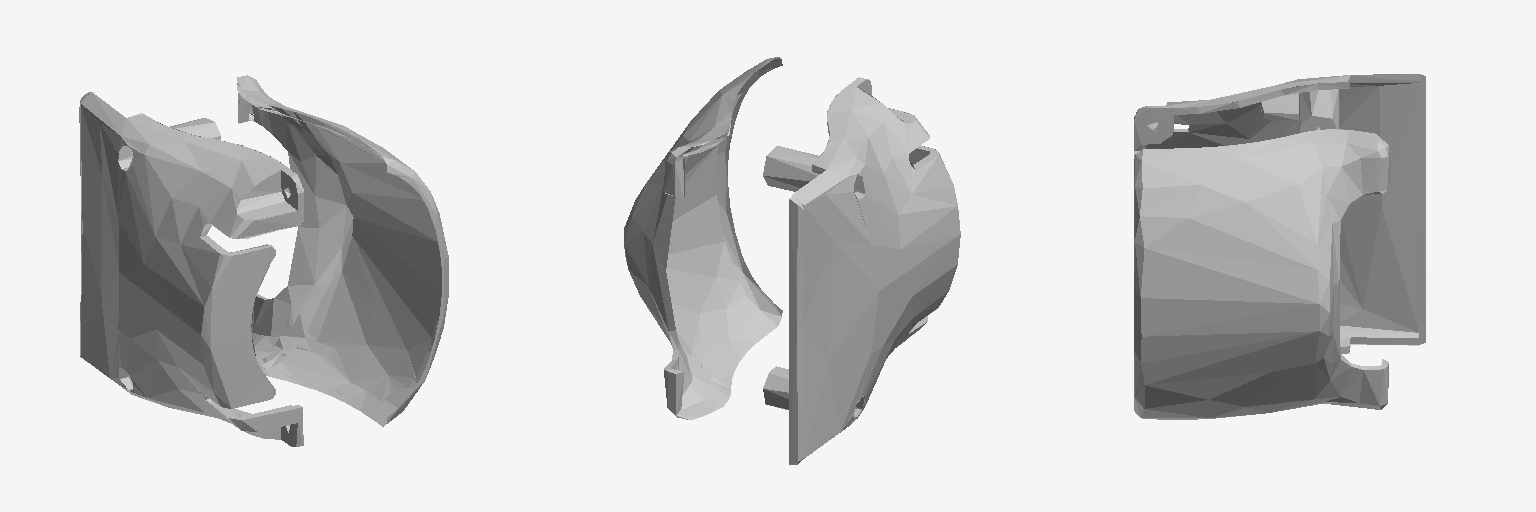
The picture shows the model from 3 angles: view 1: azimuth 30°, elevation 25°; view 2: azimuth 150°, elevation 25°; view 3: azimuth 270°, elevation 25°; orthographic projection.
Visible parts, largest first — view 1: link4_2; view 2: link4_2; view 3: link4_2.
Boxes of the visible parts, <box> form: link4_2: <box>79,75,448,446</box>; link4_2: <box>624,57,960,464</box>; link4_2: <box>1134,74,1425,419</box>.
Size of the model in its own units: 74.65 by 78.72 by 76.39.